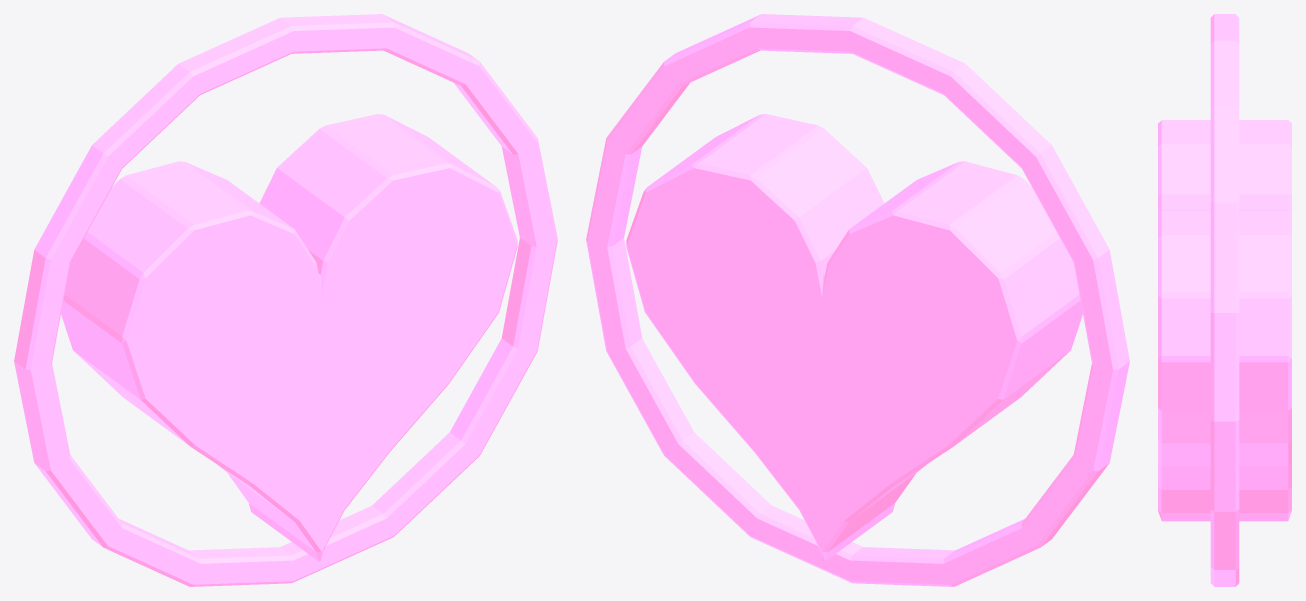
Rendered from Pickup_Heart.fbx.
3 views of the same model, side by side, from view 1: azimuth 30°, elevation 25°; view 2: azimuth 150°, elevation 25°; view 3: azimuth 270°, elevation 25° (orthographic). The views are drawn at different scales.
Visible parts, largest first — view 1: Pickup_Heart; view 2: Pickup_Heart; view 3: Pickup_Heart.
Part boxes in pixels (bbox=[...]): Pickup_Heart: bbox=[14, 14, 557, 586]; Pickup_Heart: bbox=[586, 14, 1129, 586]; Pickup_Heart: bbox=[1158, 14, 1291, 586].
Size of the model in its own units: 60 by 60 by 14.
